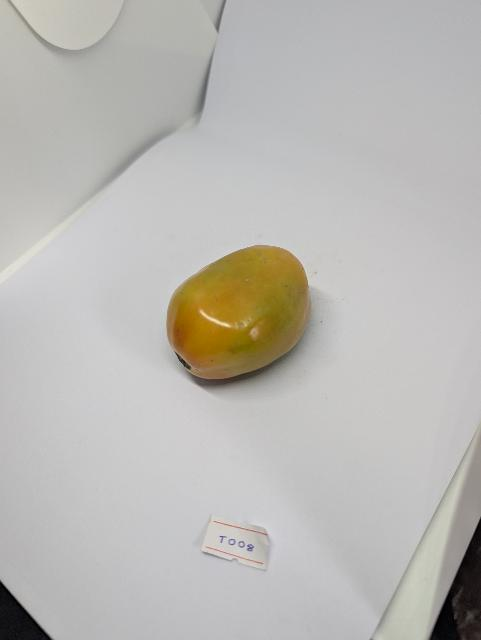breaker: (162, 231, 318, 389)
